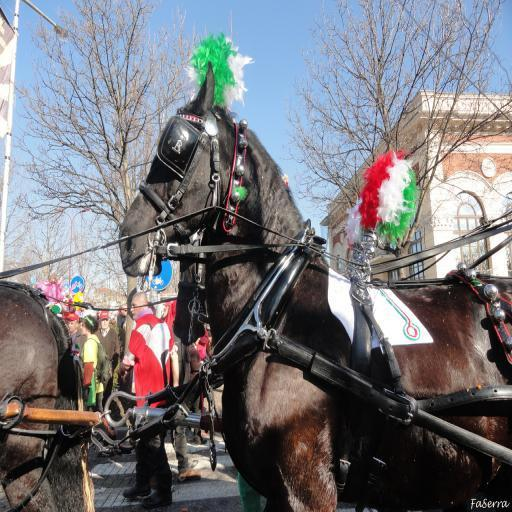horse: (118, 62, 512, 512), (0, 280, 97, 511)
